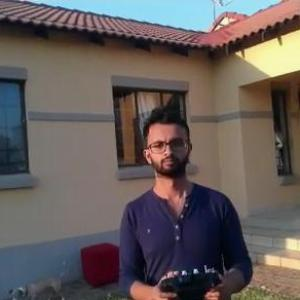follow: (114, 100, 260, 299)
null: (5, 261, 74, 299)
